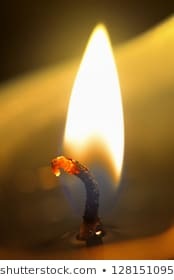Fire: (64, 23, 131, 190)
